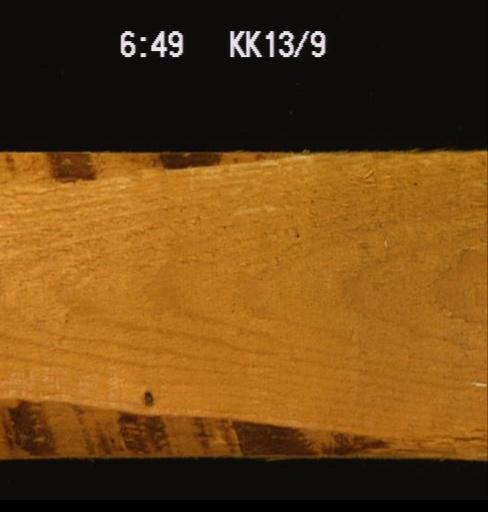small_knot: (136, 387, 155, 407)
wave: (0, 396, 486, 458), (0, 149, 311, 189)
